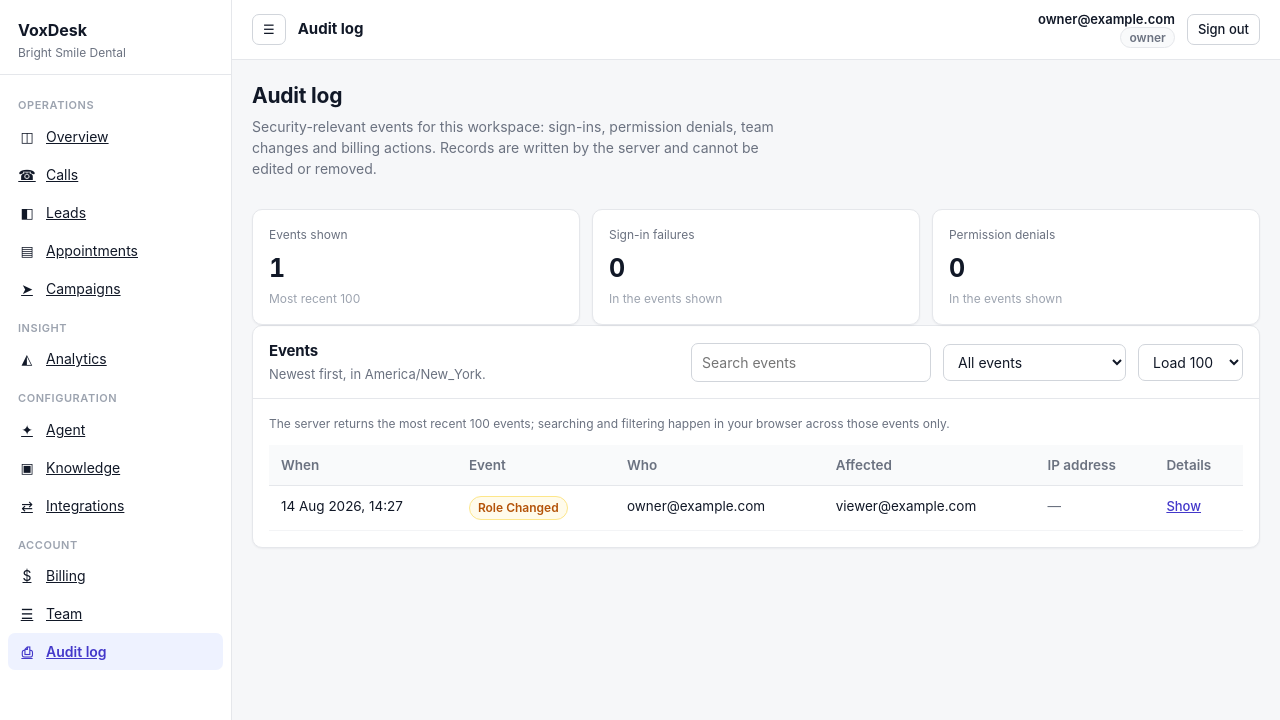
redaction › never paints a leaked secret into the DOM
Expected: the heading "Audit log" is shown, top-left (252, 83), bottom-right (342, 108)
Expected: the text "Role Changed" is shown, top-left (469, 496), bottom-right (568, 520)
Click the button "Show".
click(1184, 507)  # box top-left (1166, 497), bottom-right (1201, 517)
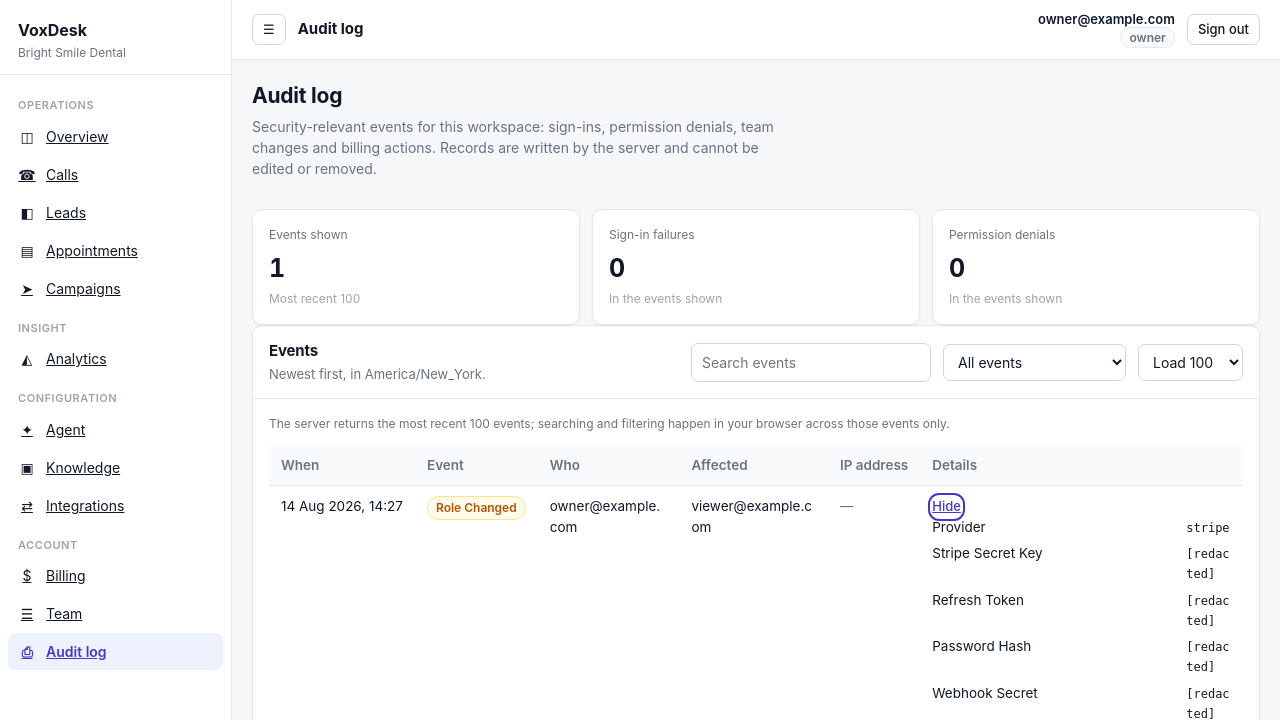
Now the text "stripe" is shown, box top-left (1186, 521), bottom-right (1230, 535)
Now the text "[redacted]" is shown 4 times, box top-left (1186, 547), bottom-right (1230, 581); top-left (1186, 594), bottom-right (1230, 628); top-left (1186, 640), bottom-right (1230, 674); top-left (1186, 686), bottom-right (1230, 719)
